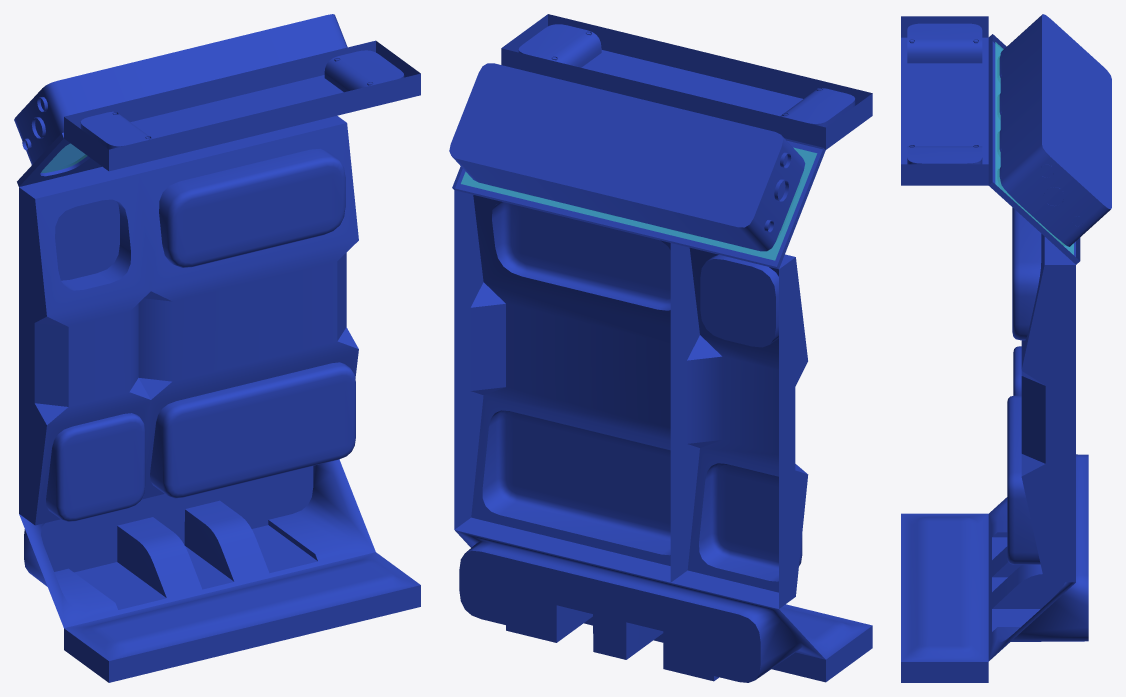
Rendered from CBig_Wall_Line_A.FBX.
3 views of the same model, side by side, from view 1: azimuth 30°, elevation 25°; view 2: azimuth 150°, elevation 25°; view 3: azimuth 270°, elevation 25° (orthographic). The views are drawn at different scales.
Parts seen in each view (by area): view 1: CBig_Wall_A; view 2: CBig_Wall_A; view 3: CBig_Wall_A.
Boxes of the visible parts, x1,y1,x2,y2 form: CBig_Wall_A: (14,14,420,682); CBig_Wall_A: (449,14,872,682); CBig_Wall_A: (901,14,1111,682).
Bounding box in the file's own units: 300 × 500 × 181.
